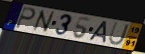3: (54, 13, 75, 38)
5: (72, 16, 91, 41)
A: (87, 21, 108, 44)
N: (31, 9, 56, 34)
P: (14, 6, 37, 30)
U: (107, 21, 131, 47)
